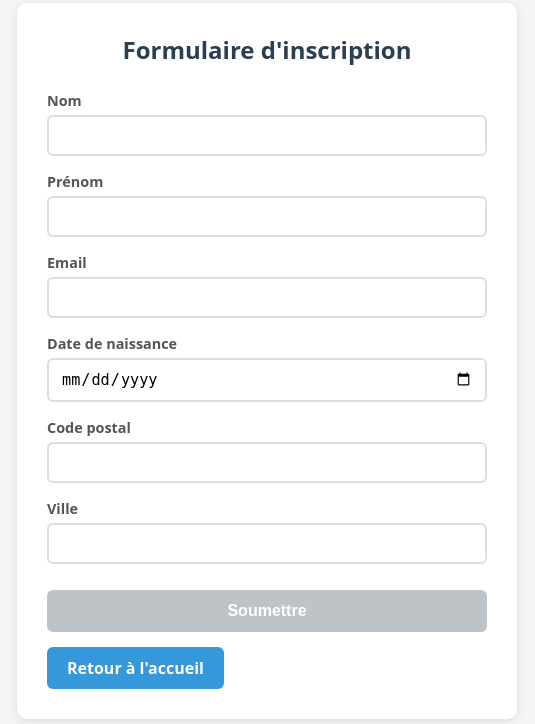
Inscription utilisateur - Parcours complet › doit afficher des erreurs de validation pour des données invalides
Step 1. Type "123Invalid" into the field with id "name" → {"x": 267, "y": 136}, box [47,115,487,156]
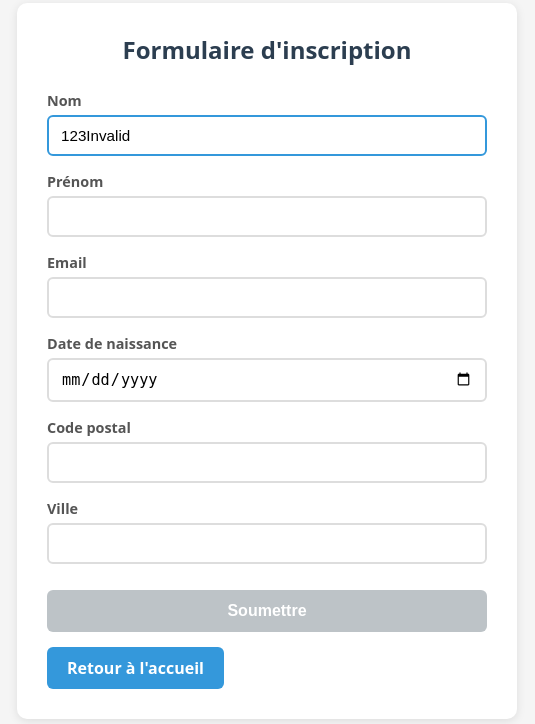
Step 2. Leave the field with id "name", box [47,115,487,156]
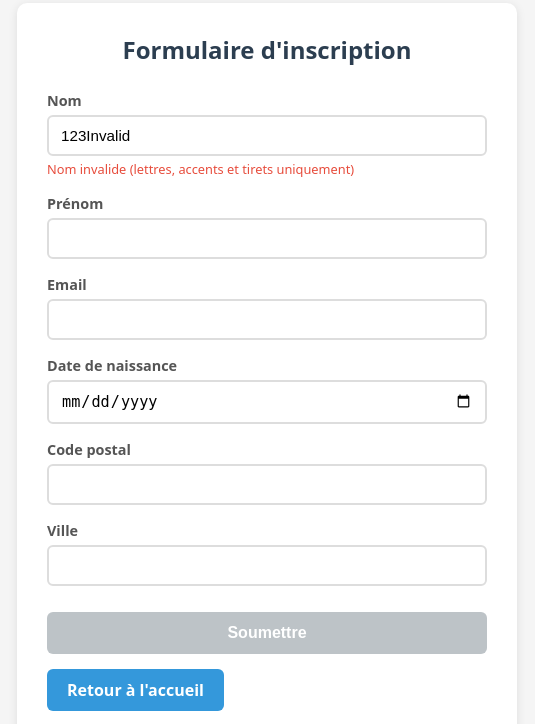
Expected: the message with class "error" shows "Nom invalide", [47,160,354,178]
Step 3. Type "not-an-email" into the field with id "email" → {"x": 267, "y": 320}, box [47,299,487,340]
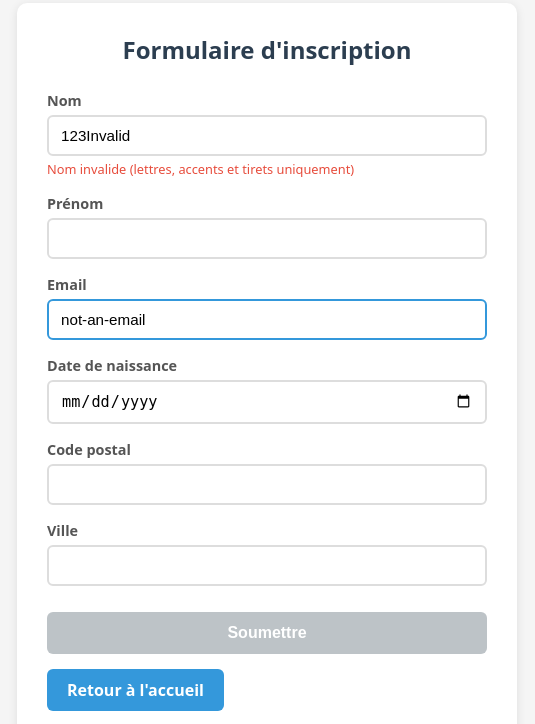
Step 4. Leave the field with id "email", box [47,299,487,340]
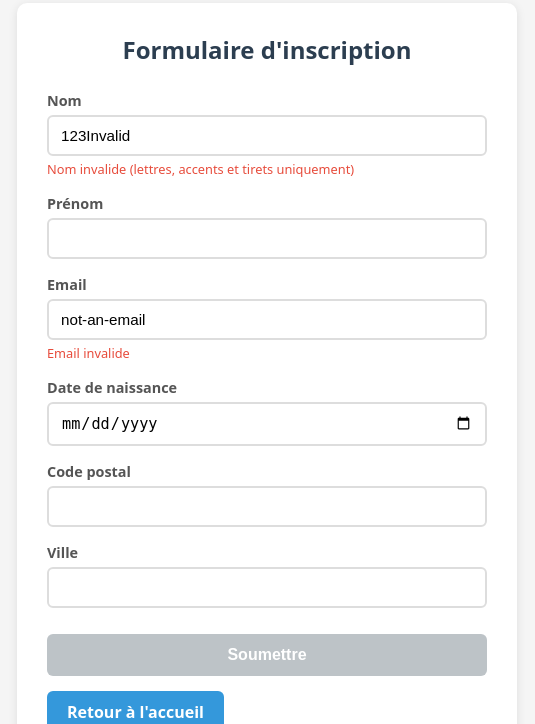
Expected: the message with class "error" reads "Email invalide", [47,344,130,362]
Step 5. Type "123" into the field labelled "Code postal" → {"x": 267, "y": 507}, box [47,486,487,527]
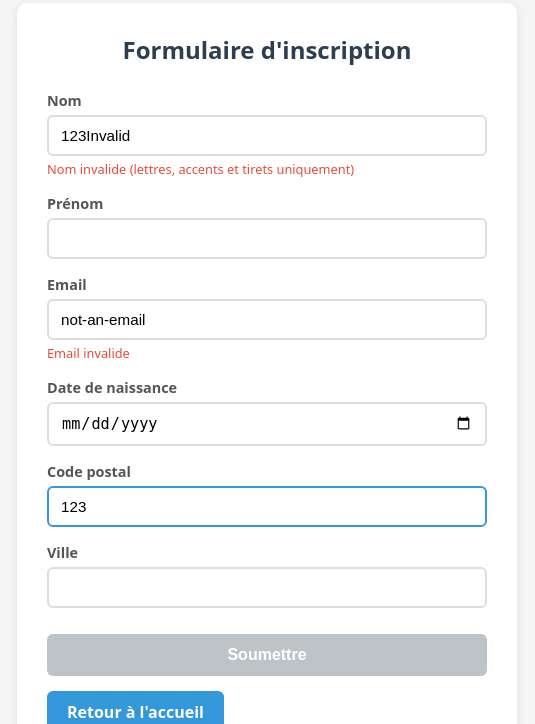
Step 6. Leave the field labelled "Code postal", box [47,486,487,527]
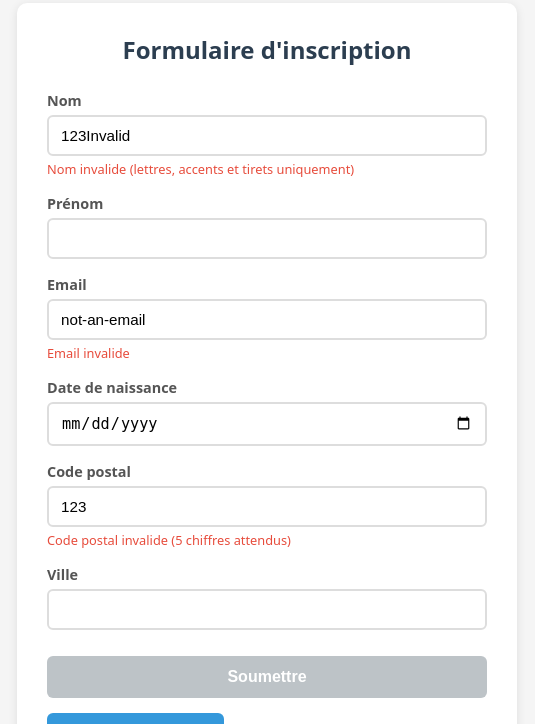
Expected: the message with class "error" shows "Code postal invalide", [47,531,291,549]
